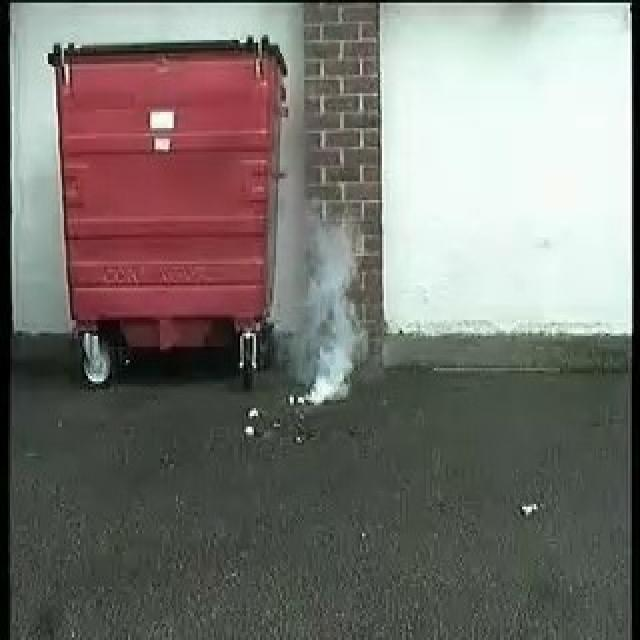smoke: (288, 214, 366, 406)
